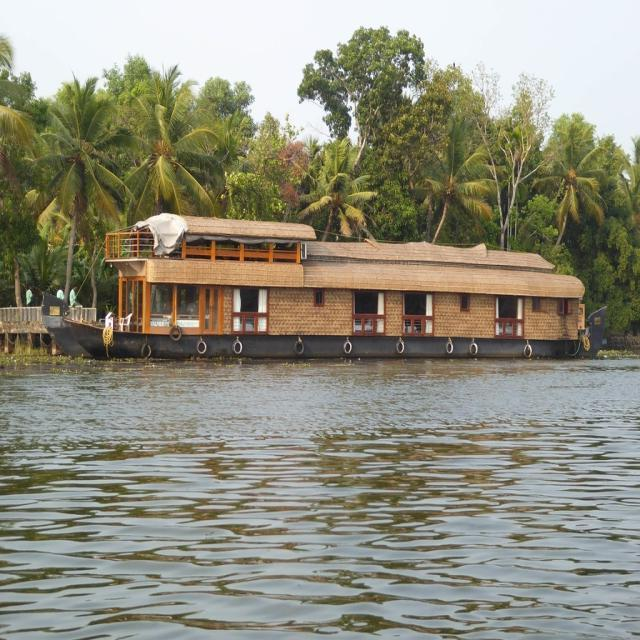Hyacinth: (2, 349, 86, 371), (600, 353, 628, 363)
boat: (63, 218, 589, 359)
